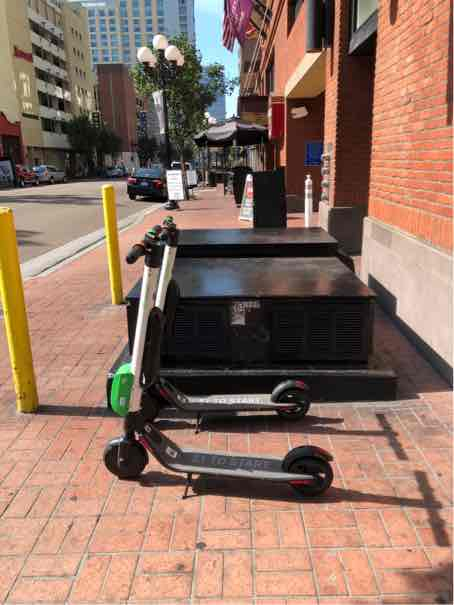scooter: (87, 208, 350, 489)
